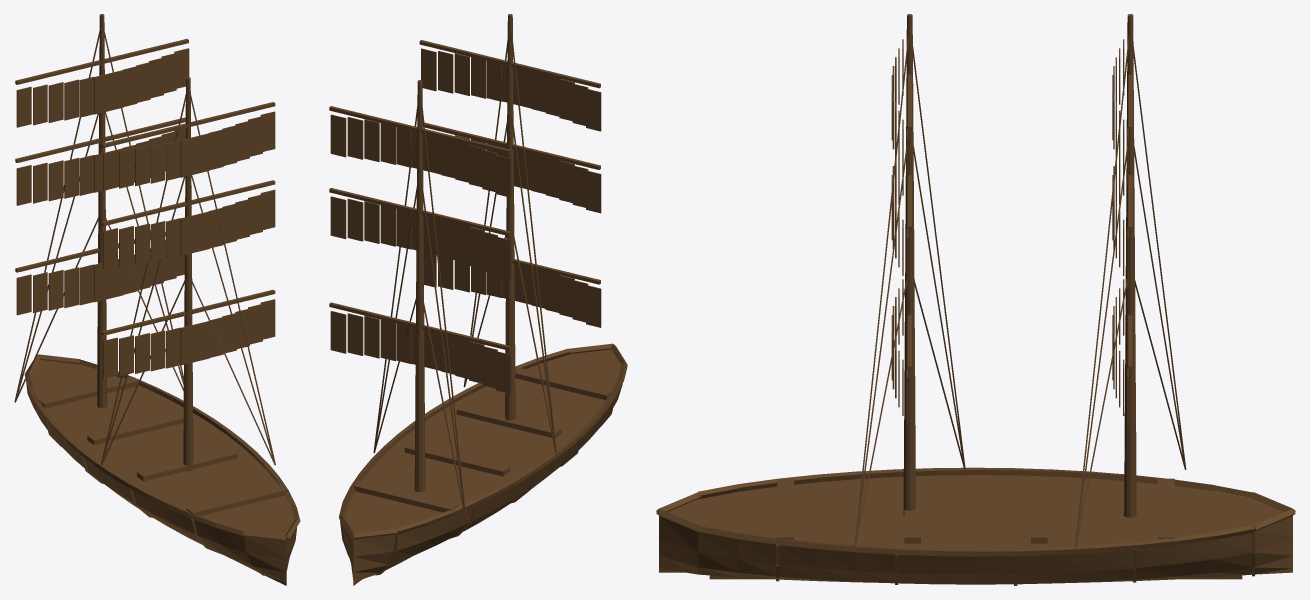
File: HarborTallShip.obj
The picture shows the model from 3 angles, left to right: view 1: azimuth 30°, elevation 25°; view 2: azimuth 150°, elevation 25°; view 3: azimuth 270°, elevation 25°; orthographic projection. The views are drawn at different scales.
Visible parts, largest first — view 1: canvas, wood, trim, iron; view 2: canvas, wood, trim, iron; view 3: wood, trim, iron, canvas.
Boxes of the visible parts, x1,y1,x2,y2 form: canvas: (16,48,275,378); wood: (15,14,296,585); trim: (24,354,300,541); iron: (14,31,275,465); canvas: (330,48,601,393); wood: (329,14,622,585); trim: (339,343,627,539); iron: (373,32,556,519); wood: (659,14,1292,585); trim: (656,467,1295,556); iron: (854,36,1186,550); canvas: (891,39,1128,424).
Size of the model in its own units: 4.6 by 11.24 by 11.6.
